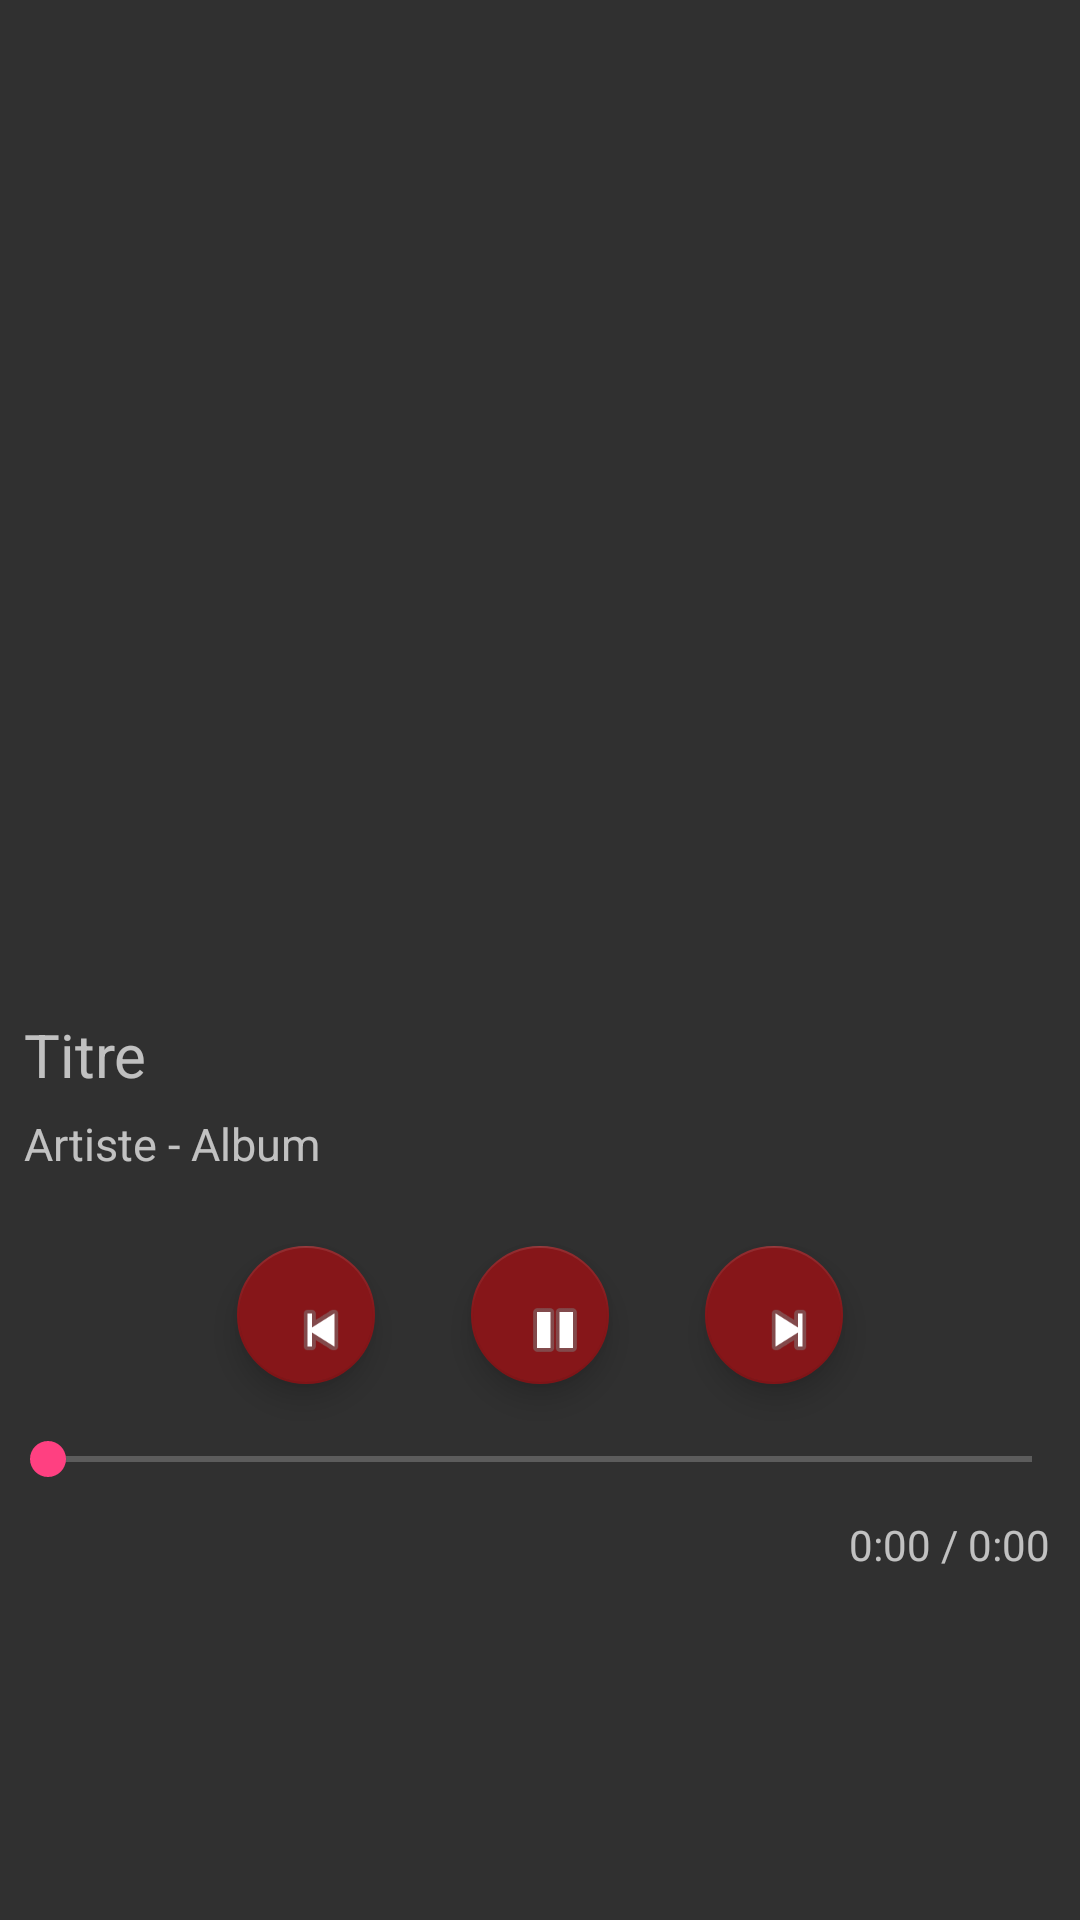

Icon click points for this 1080*1920 phone screenshot, format (x,y):
next: (774,1315)
pause: (540,1315)
previous: (306,1315)
